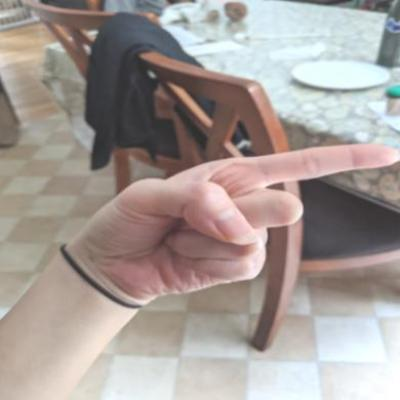hand: (73, 133, 399, 310)
